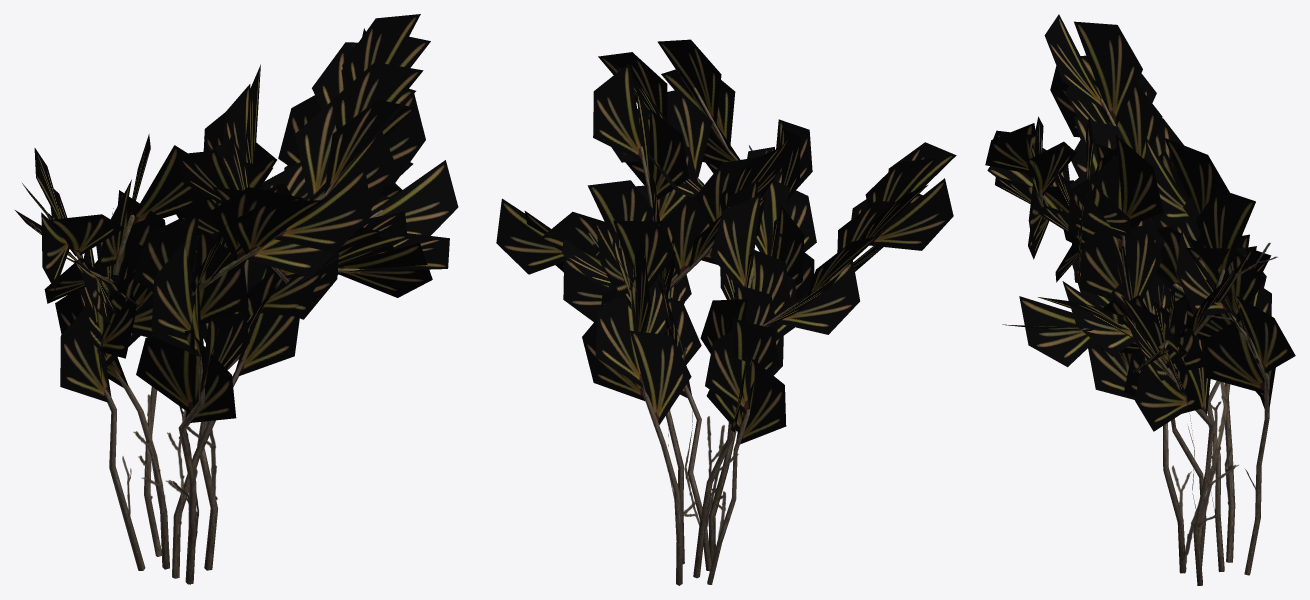
The model's file is bush_e.glb.
The picture shows the model from 3 angles, left to right: view 1: azimuth 30°, elevation 25°; view 2: azimuth 150°, elevation 25°; view 3: azimuth 270°, elevation 25°; orthographic projection. The views are drawn at different scales.
Visible parts, largest first — view 1: wild_rooibos_bush_e; view 2: wild_rooibos_bush_e; view 3: wild_rooibos_bush_e.
Boxes of the visible parts, x1,y1,x2,y2 form: wild_rooibos_bush_e: [15, 14, 458, 584]; wild_rooibos_bush_e: [496, 39, 956, 585]; wild_rooibos_bush_e: [985, 14, 1295, 585].
Size of the model in its own units: 0.2776 by 0.3062 by 0.1657.
Materials: 3 (3 with a texture image).
